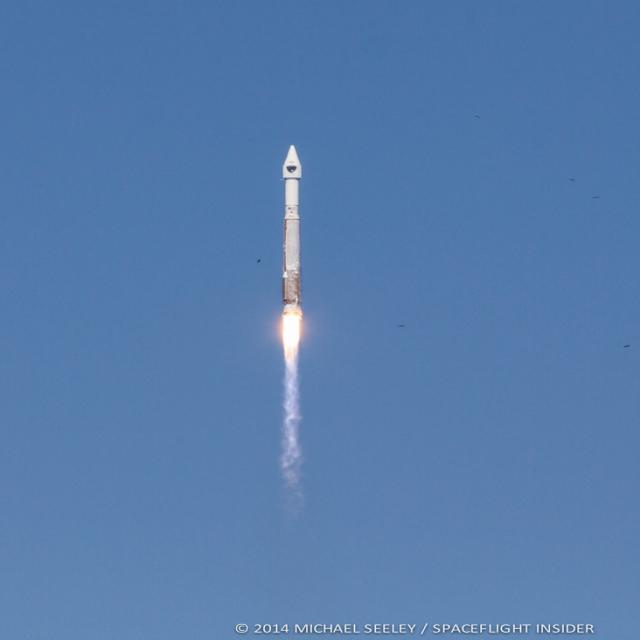rocket: (276, 141, 310, 459)
